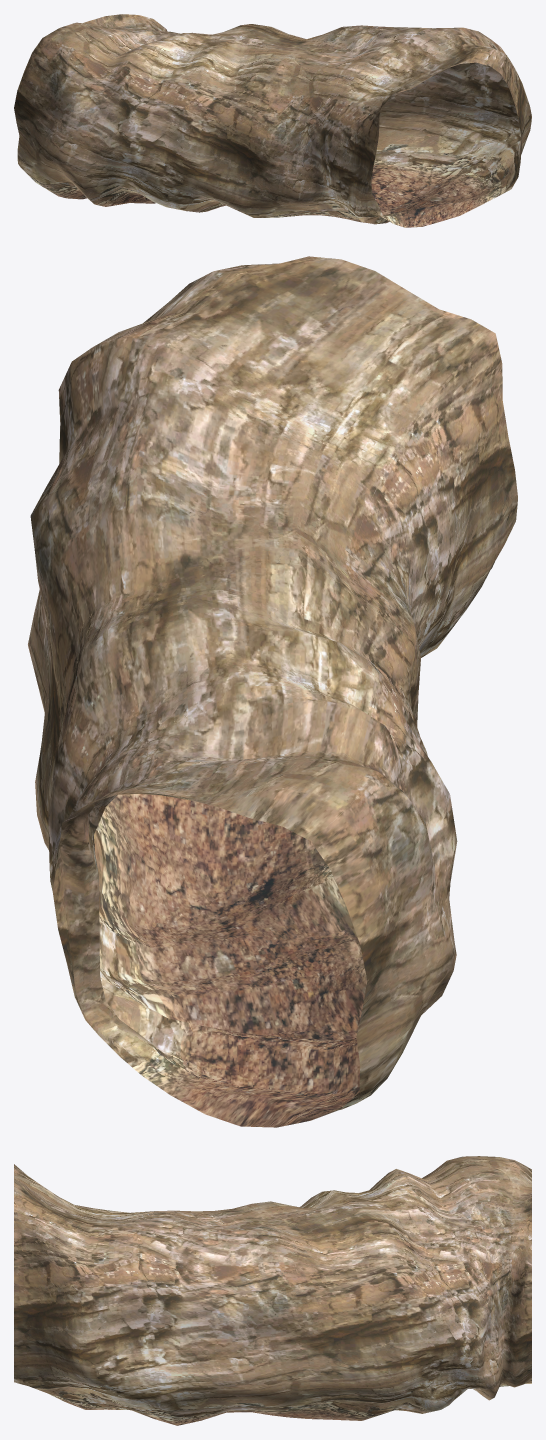
The model's file is thm_tato_cave_s01_r1_mesh_r1.fbx.
3 views of the same model, one above another, from view 1: azimuth 30°, elevation 25°; view 2: azimuth 150°, elevation 25°; view 3: azimuth 270°, elevation 25° (orthographic). The views are drawn at different scales.
Visible parts, largest first — view 1: mesh_node; view 2: mesh_node; view 3: mesh_node.
Boxes of the visible parts, box(x1,y1,x2,y2) form: mesh_node: box(14, 14, 531, 227); mesh_node: box(28, 256, 517, 1127); mesh_node: box(14, 1156, 531, 1425).
Size of the model in its own units: 20.63 by 13.88 by 23.2.
